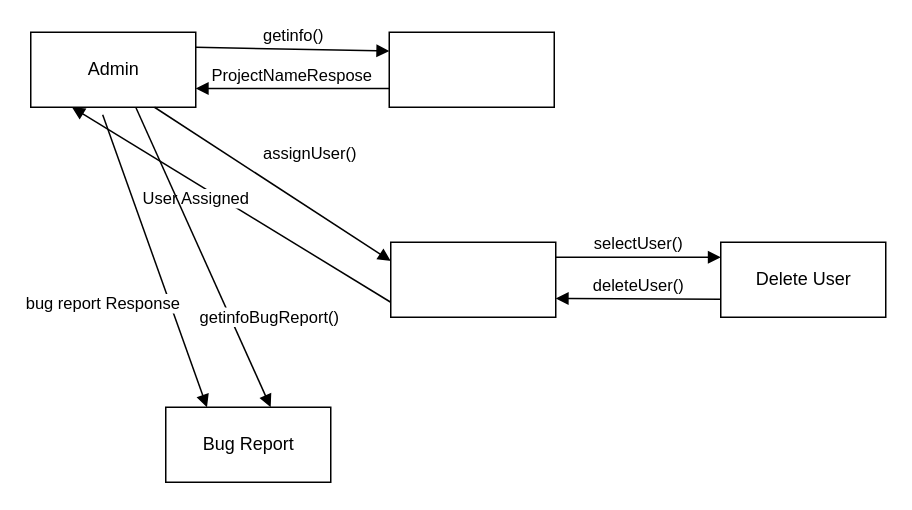
Image size: 912x510. Some labels were removed from this diagram. Here are the shapes that lost their labels. From the top down, the centre of each, then its label:
At point (471, 69): "Projec Name".
At point (472, 279): "User".
